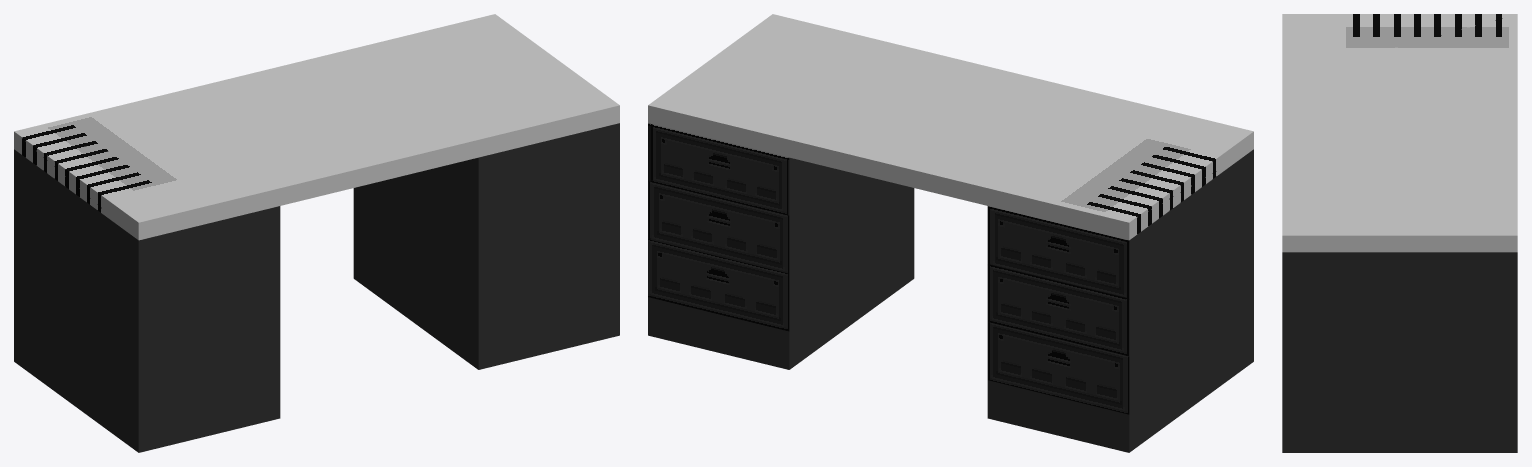
File: desk01.gltf
The picture shows the model from 3 angles, left to right: view 1: azimuth 30°, elevation 25°; view 2: azimuth 150°, elevation 25°; view 3: azimuth 270°, elevation 25°; orthographic projection. The views are drawn at different scales.
Visible parts, largest first — view 1: Cube; view 2: Cube; view 3: Cube.
Boxes of the visible parts, x1,y1,x2,y2 form: Cube: [14, 14, 619, 452]; Cube: [648, 14, 1253, 452]; Cube: [1282, 14, 1517, 452].
Size of the model in its own units: 1.73 by 0.793 by 0.7789.
Materials: 1 (1 with a texture image).
